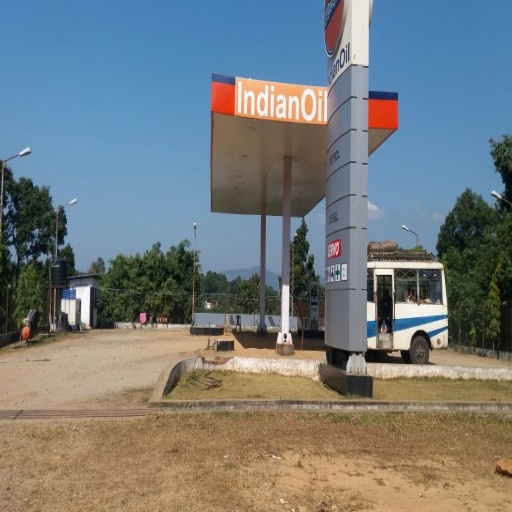roof: (205, 69, 401, 220)
